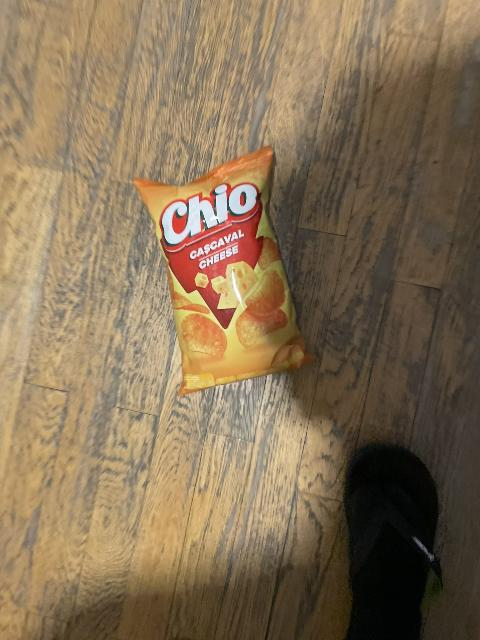Chio Cascaval 125g: (134, 147, 318, 388)
